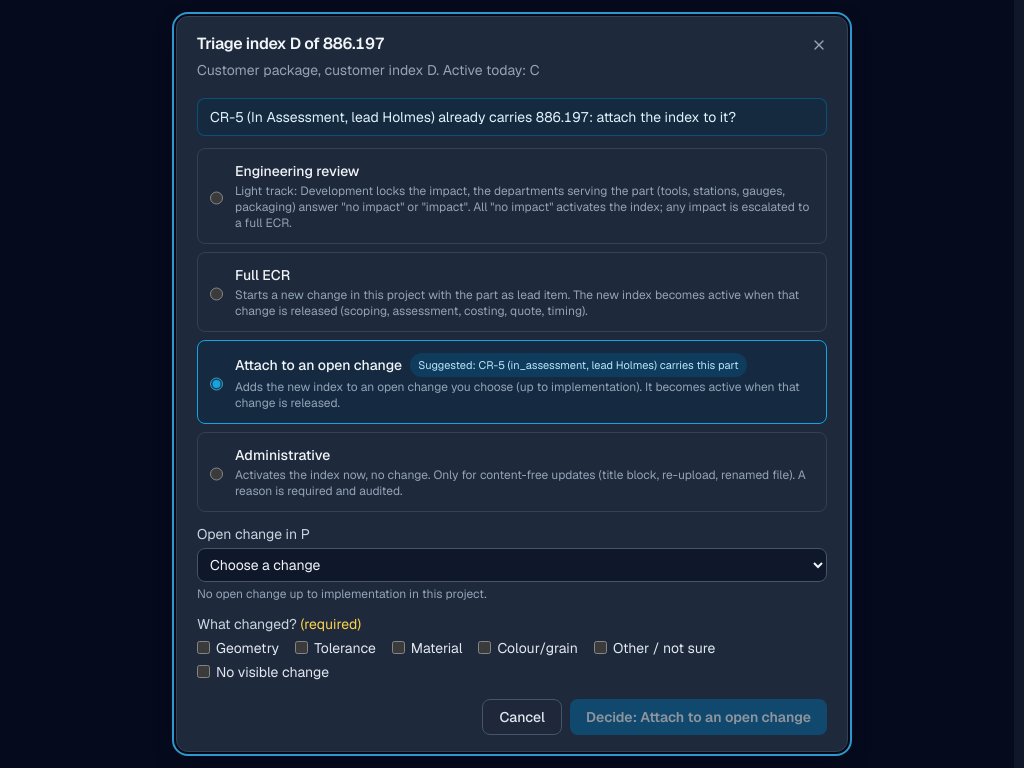
Test case: RouteDialog (§1 intake) › administrative while a live change carries the part needs a real reason
Later steps or results of the test are not shown.
Click the 4th radio button.
click(216, 474)  # box x1=210 y1=449 x2=223 y2=499
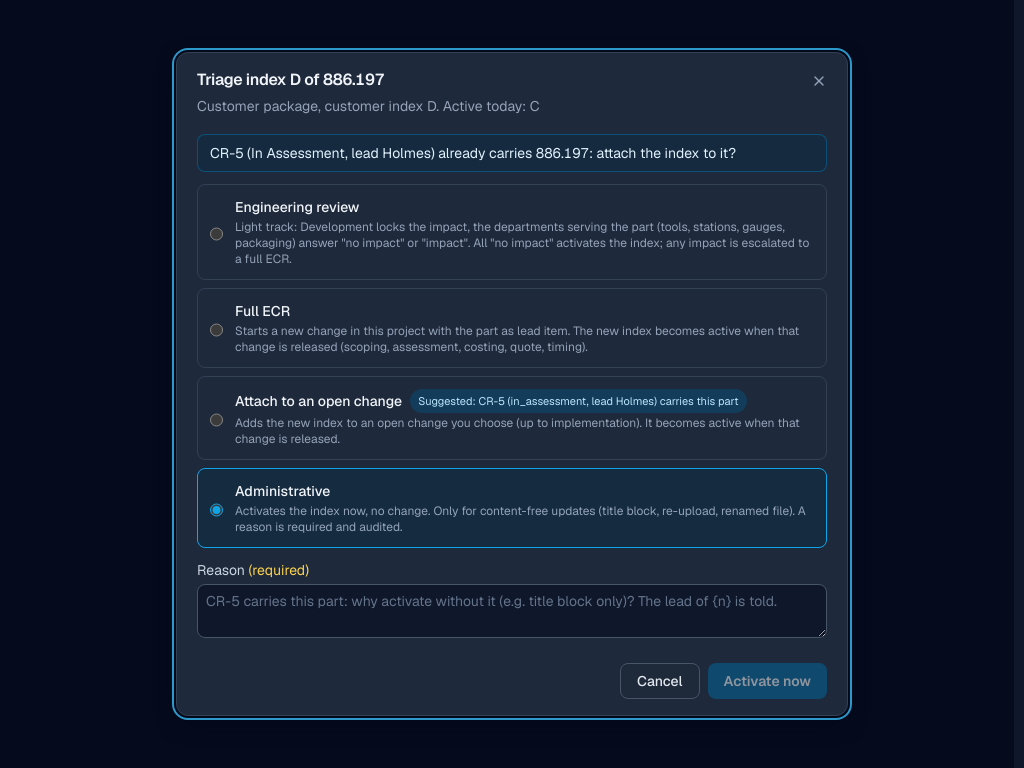
Replace the text in the text box with test id "route-reason" with "x" at (512, 611), box x1=197 y1=584 x2=827 y2=638
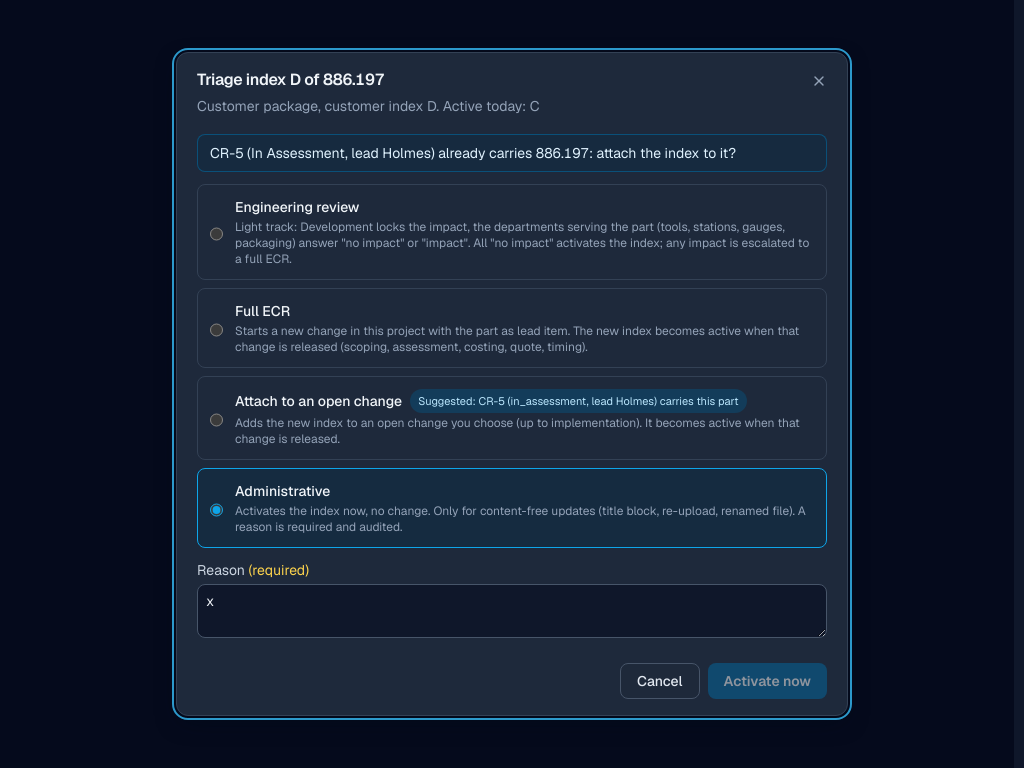
Expected: the button with test id "route-submit" is disabled, x1=708 y1=663 x2=827 y2=699
Replace the text in the text box with test id "route-reason" with "Title block only" at (512, 611), box x1=197 y1=584 x2=827 y2=638
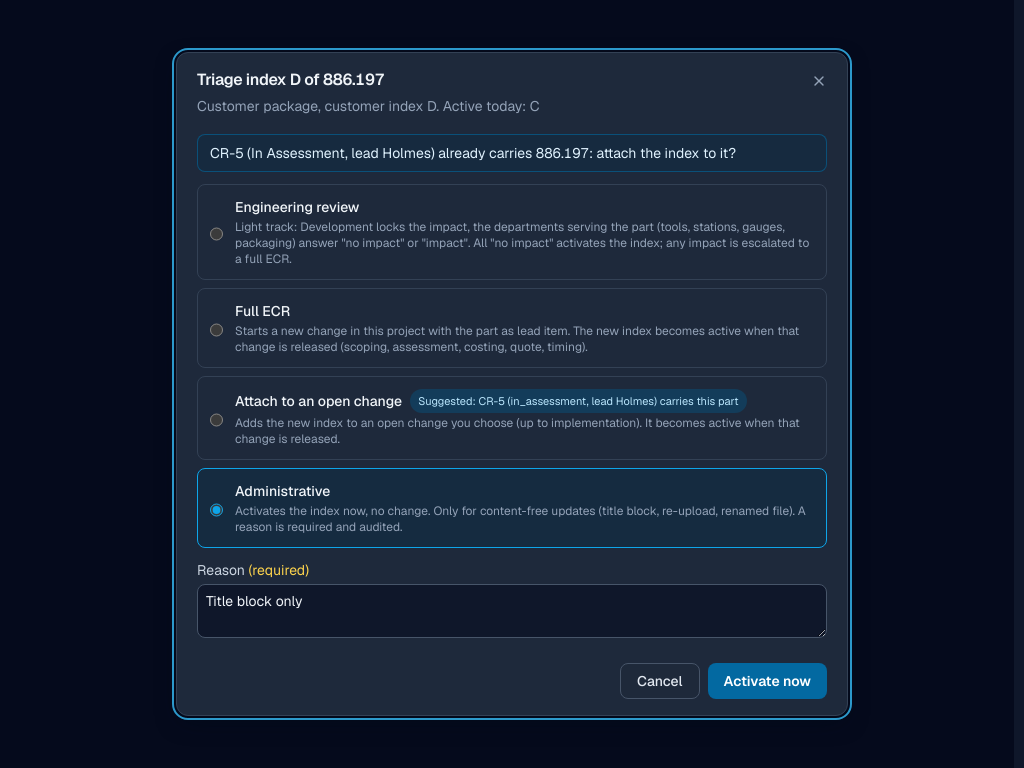
Expected: the button with test id "route-submit" is enabled, x1=708 y1=663 x2=827 y2=699
